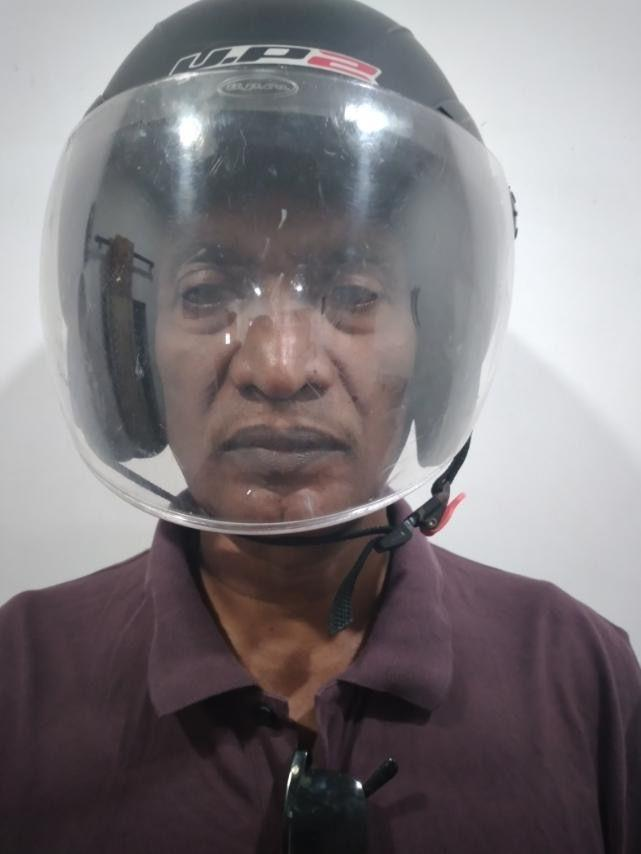helmet: (37, 0, 520, 539)
